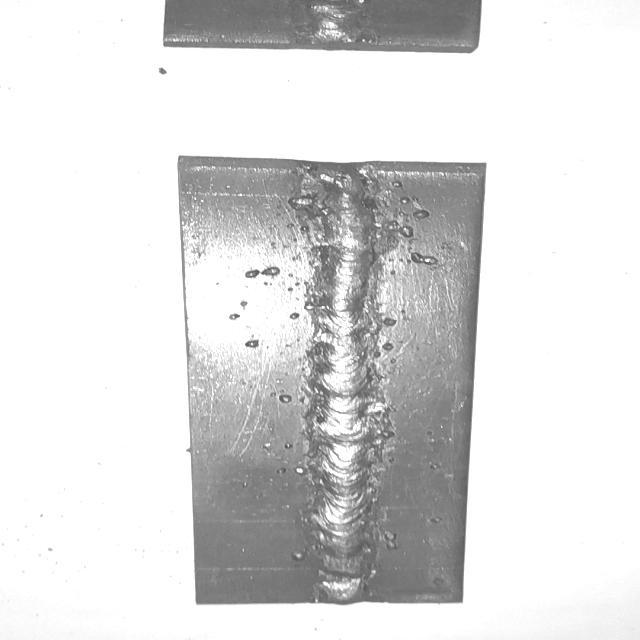Defect: (304, 0, 366, 46)
Welding Line: (314, 168, 372, 602)
Workpiece: (170, 152, 494, 608)
